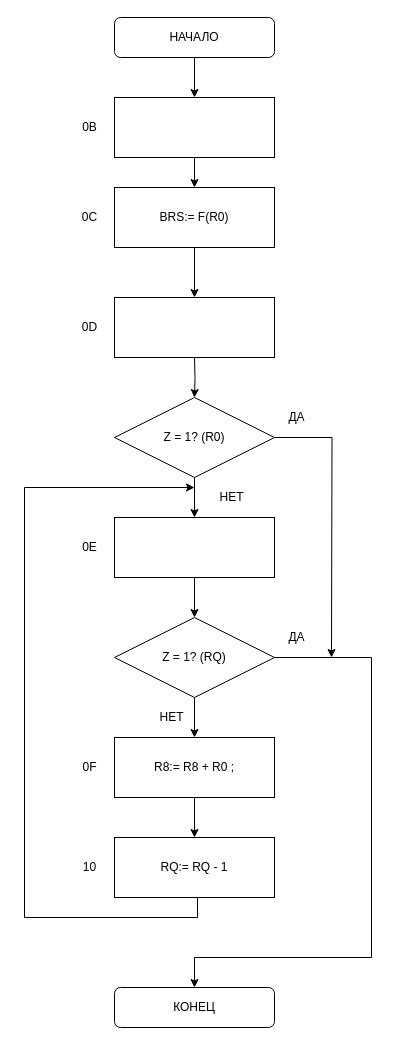
The diagram is 397 pixels wide and 1045 high, and some of its shapes have lost their labels. Each missing label, with the centre of its shape:
"BRS:= F(RQ)" belongs at (194,327).
"R8:=0;" belongs at (194,127).
"Проверка условия" belongs at (194,547).
